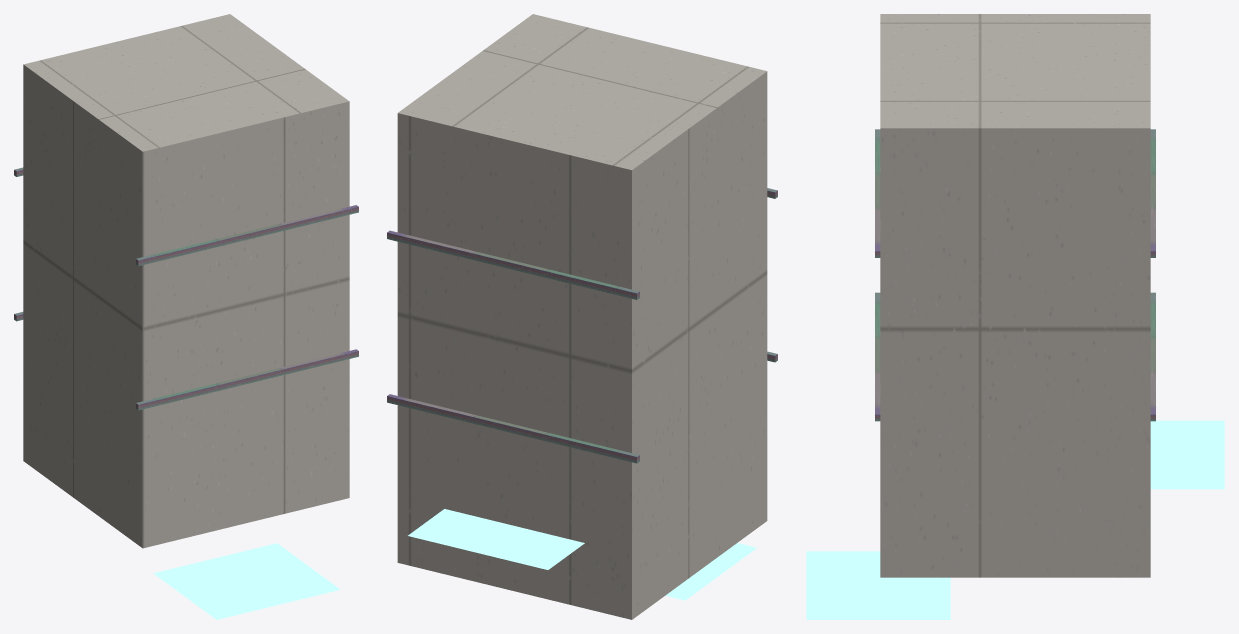
File: bank.glb
3 views of the same model, side by side, from view 1: azimuth 30°, elevation 25°; view 2: azimuth 150°, elevation 25°; view 3: azimuth 270°, elevation 25° (orthographic). The views are drawn at different scales.
Visible parts, largest first — view 1: body, entrance.001, trim.001, trim.003; view 2: body, entrance, trim, trim.002, entrance.001; view 3: body, entrance.001, entrance, trim, trim.001, trim.002, trim.003.
Part boxes in pixels (<box>): body: <box>23,14,349,548</box>; entrance.001: <box>153,543,340,619</box>; trim.001: <box>136,349,358,410</box>; trim.003: <box>136,205,358,266</box>; body: <box>397,14,767,619</box>; entrance: <box>408,509,584,569</box>; trim: <box>387,394,639,463</box>; trim.002: <box>387,230,639,299</box>; entrance.001: <box>665,543,756,600</box>; body: <box>880,14,1150,577</box>; entrance.001: <box>806,551,950,619</box>; entrance: <box>1150,420,1224,489</box>; trim: <box>1150,292,1155,421</box>; trim.001: <box>875,292,880,421</box>; trim.002: <box>1150,129,1155,257</box>; trim.003: <box>875,129,880,257</box>.
Size of the model in its own units: 3.2 by 6.3 by 4.64.
3 materials, 2 textured.
